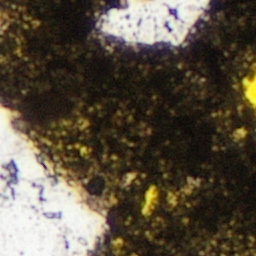air_pores: (243, 69, 255, 109)
cement_matrix: (0, 0, 255, 255), (4, 162, 17, 185), (145, 190, 156, 209)
cracks: (146, 191, 155, 208)
gravel_crushed_stones: (0, 103, 106, 255), (99, 0, 210, 46), (3, 161, 18, 186), (0, 19, 1, 27)
